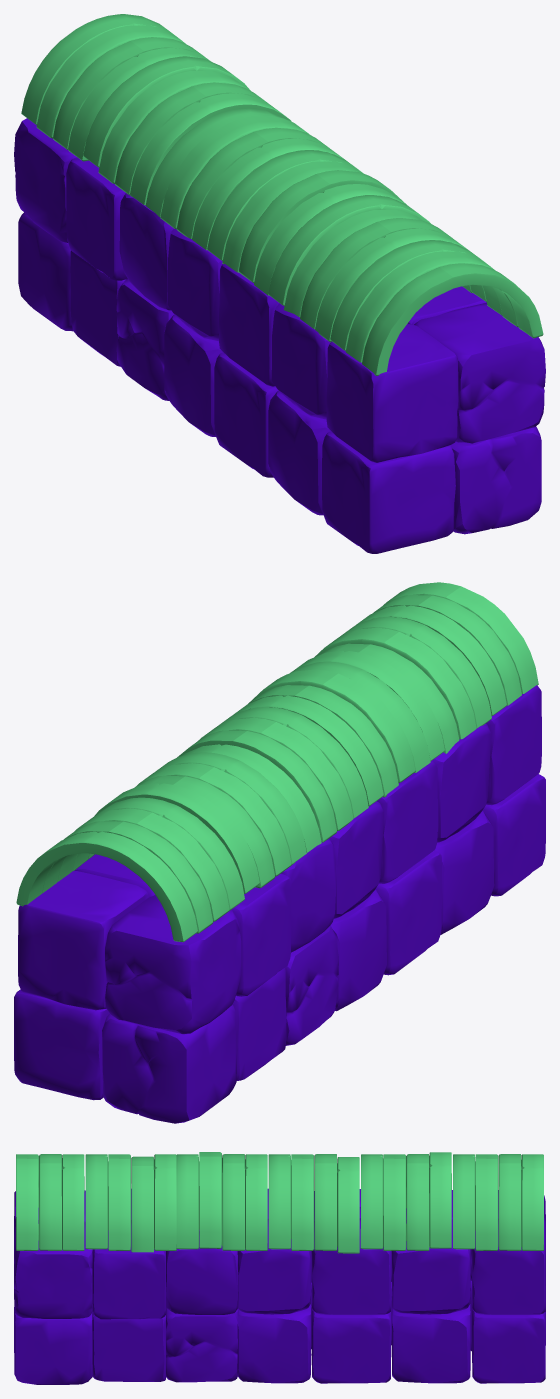
Rendered from wall05.fbx.
The picture shows the model from 3 angles, top to bottom: view 1: azimuth 30°, elevation 25°; view 2: azimuth 150°, elevation 25°; view 3: azimuth 270°, elevation 25°; orthographic projection. The views are drawn at different scales.
Visible parts, largest first — view 1: wall05; view 2: wall05; view 3: wall05.
Boxes of the visible parts, x1,y1,x2,y2 form: wall05: (14,14,545,553); wall05: (14,582,545,1123); wall05: (14,1152,545,1384).
Size of the model in its own units: 2.55 by 3.63 by 8.85.
